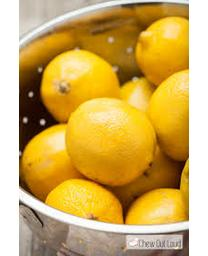lemon: (65, 97, 159, 186), (41, 50, 120, 124), (44, 179, 125, 228)
